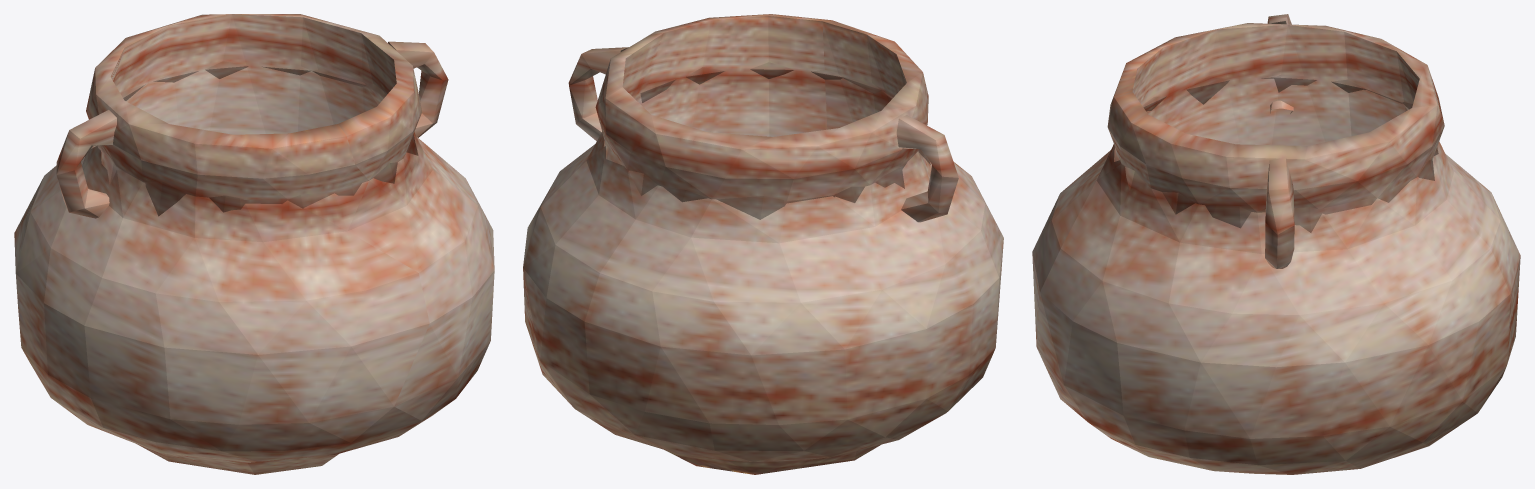
File: pot.glb
3 views of the same model, side by side, from view 1: azimuth 30°, elevation 25°; view 2: azimuth 150°, elevation 25°; view 3: azimuth 270°, elevation 25° (orthographic).
Visible parts, largest first — view 1: Sphere; view 2: Sphere; view 3: Sphere.
Part boxes in pixels (x1,y1,x2,y2): Sphere: (14,14,494,474); Sphere: (523,14,1003,474); Sphere: (1032,14,1520,474).
Bounding box in the file's own units: 2 × 1.59 × 2.
Materials: 1 (1 with a texture image).
